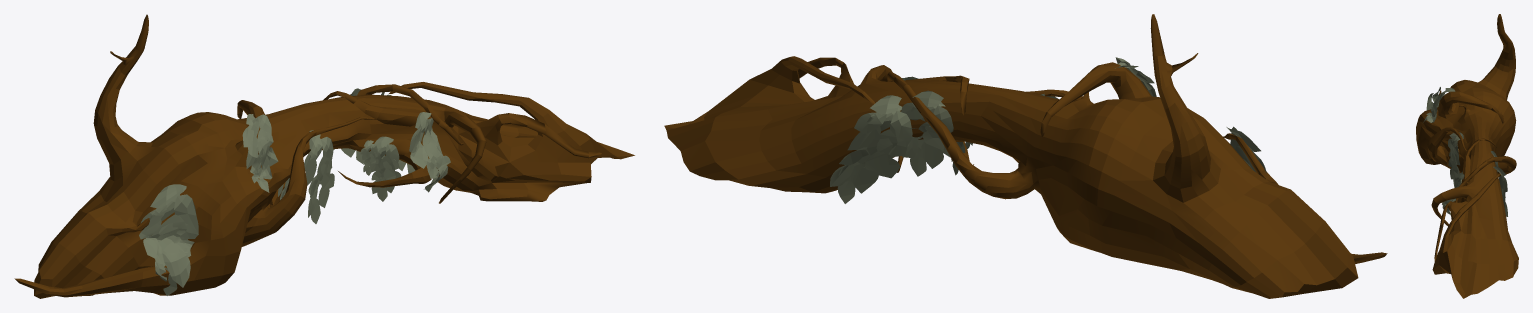
The model's file is logBridge_EM.fbx.
The picture shows the model from 3 angles, left to right: view 1: azimuth 30°, elevation 25°; view 2: azimuth 150°, elevation 25°; view 3: azimuth 270°, elevation 25°; orthographic projection. The views are drawn at different scales.
Parts seen in each view (by area): view 1: logbridge.001, logbridge, logbridge.002; view 2: logbridge.001, logbridge, logbridge.002; view 3: logbridge.001, logbridge, logbridge.002.
Boxes of the visible parts, bbox=[...] form: logbridge.001: bbox=[14, 14, 634, 298]; logbridge: bbox=[139, 92, 450, 295]; logbridge.002: bbox=[242, 88, 378, 209]; logbridge.001: bbox=[664, 14, 1387, 298]; logbridge: bbox=[830, 76, 1266, 203]; logbridge.002: bbox=[901, 57, 1156, 176]; logbridge.001: bbox=[1416, 14, 1518, 298]; logbridge: bbox=[1426, 87, 1507, 216]; logbridge.002: bbox=[1423, 88, 1498, 173].
Size of the model in its own units: 1118 by 402 by 253.
